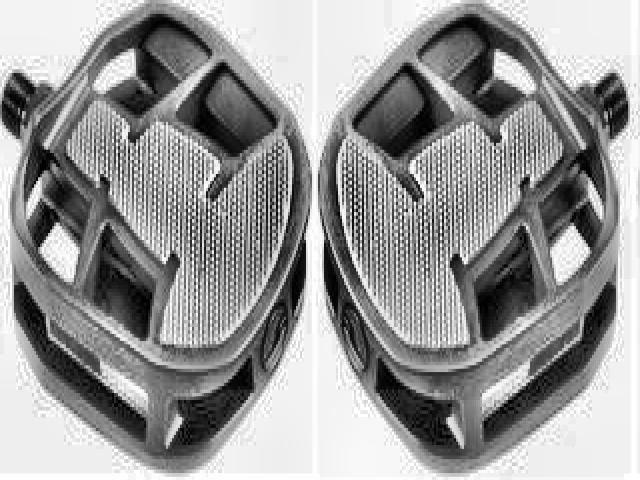pedal: (317, 2, 632, 475), (2, 0, 313, 478)
